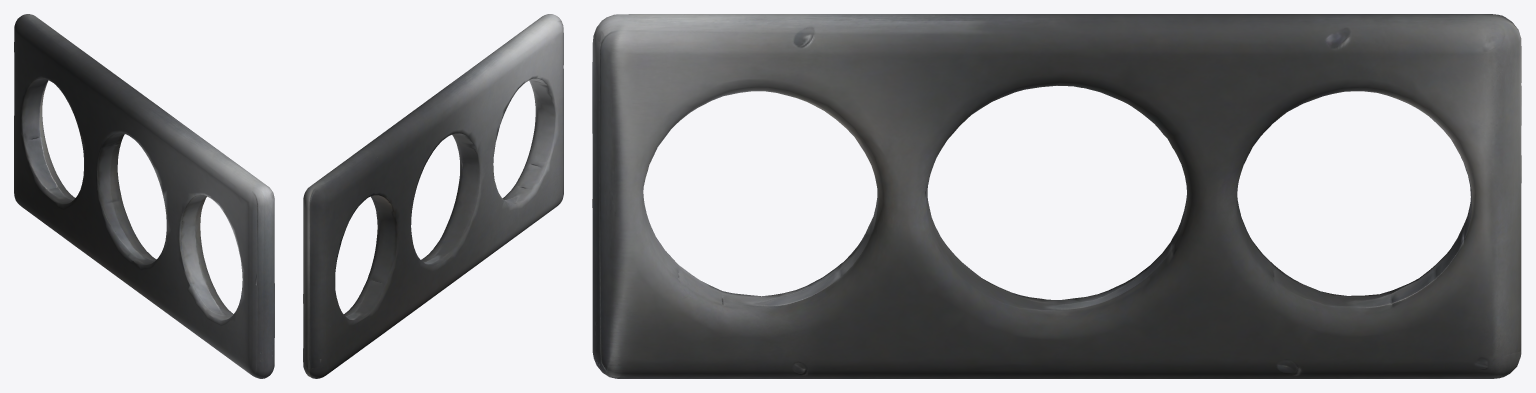
File: A_rectangular_wall_wi_0507130217_texture.fbx
The picture shows the model from 3 angles, left to right: view 1: azimuth 30°, elevation 25°; view 2: azimuth 150°, elevation 25°; view 3: azimuth 270°, elevation 25°; orthographic projection. The views are drawn at different scales.
Visible parts, largest first — view 1: Mesh_0; view 2: Mesh_0; view 3: Mesh_0.
Boxes of the visible parts, <box> form: Mesh_0: <box>14,14,274,378</box>; Mesh_0: <box>303,14,563,378</box>; Mesh_0: <box>592,14,1521,378</box>.
Size of the model in its own units: 11.91 by 85.65 by 200.
1 material, 1 textured.
